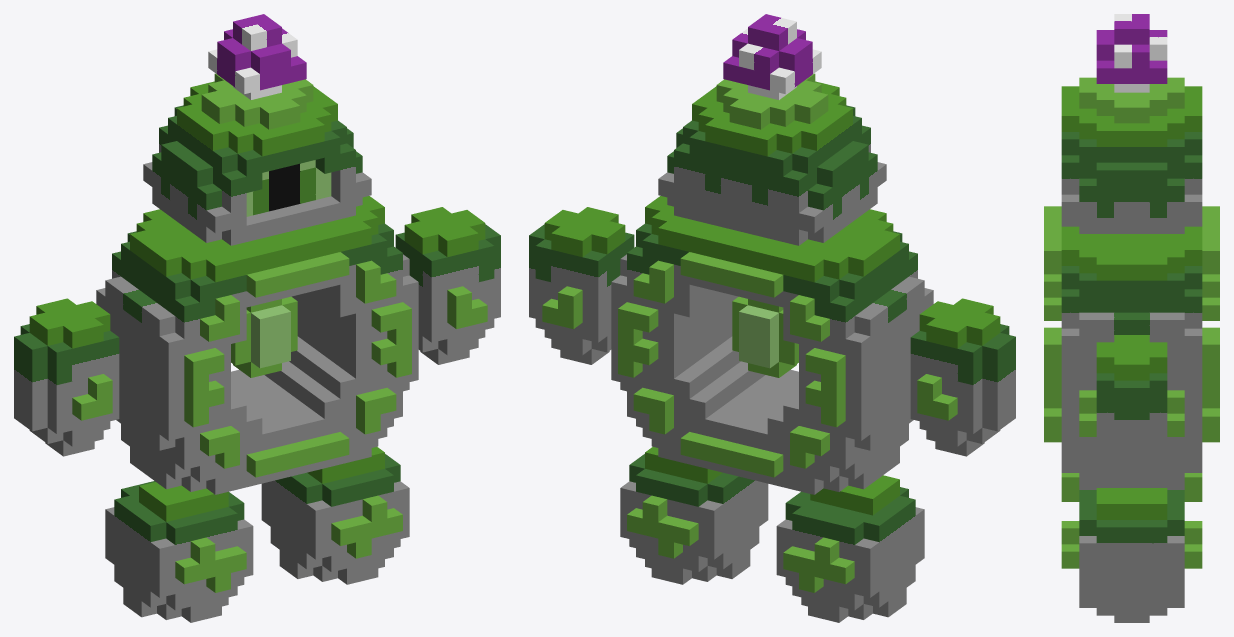
Rendered from baby_golem_green.gltf.
The picture shows the model from 3 angles, left to right: view 1: azimuth 30°, elevation 25°; view 2: azimuth 150°, elevation 25°; view 3: azimuth 270°, elevation 25°; orthographic projection. The views are drawn at different scales.
Visible parts, largest first — view 1: baby_golem_green-Mesh; view 2: baby_golem_green-Mesh; view 3: baby_golem_green-Mesh.
Part boxes in pixels (x1,y1,x2,y2): baby_golem_green-Mesh: [14, 14, 500, 622]; baby_golem_green-Mesh: [529, 14, 1015, 622]; baby_golem_green-Mesh: [1044, 14, 1219, 622].
Size of the model in its own units: 30 by 34 by 10.
1 material, 1 textured.
